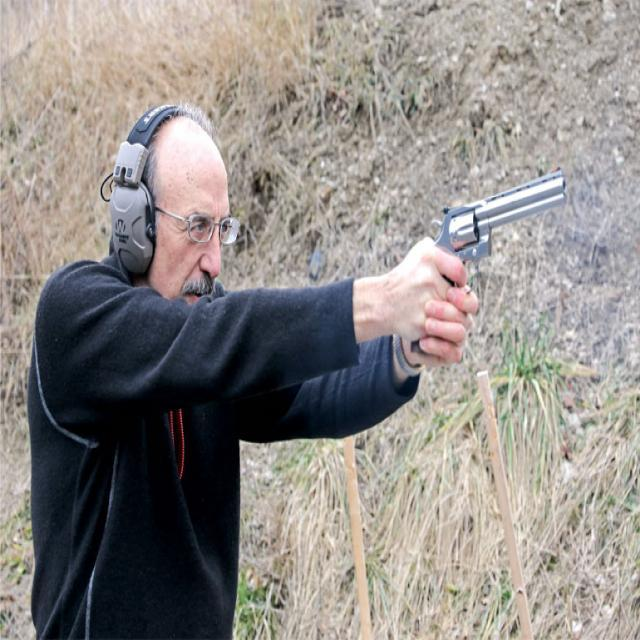handgun: (389, 168, 567, 358)
